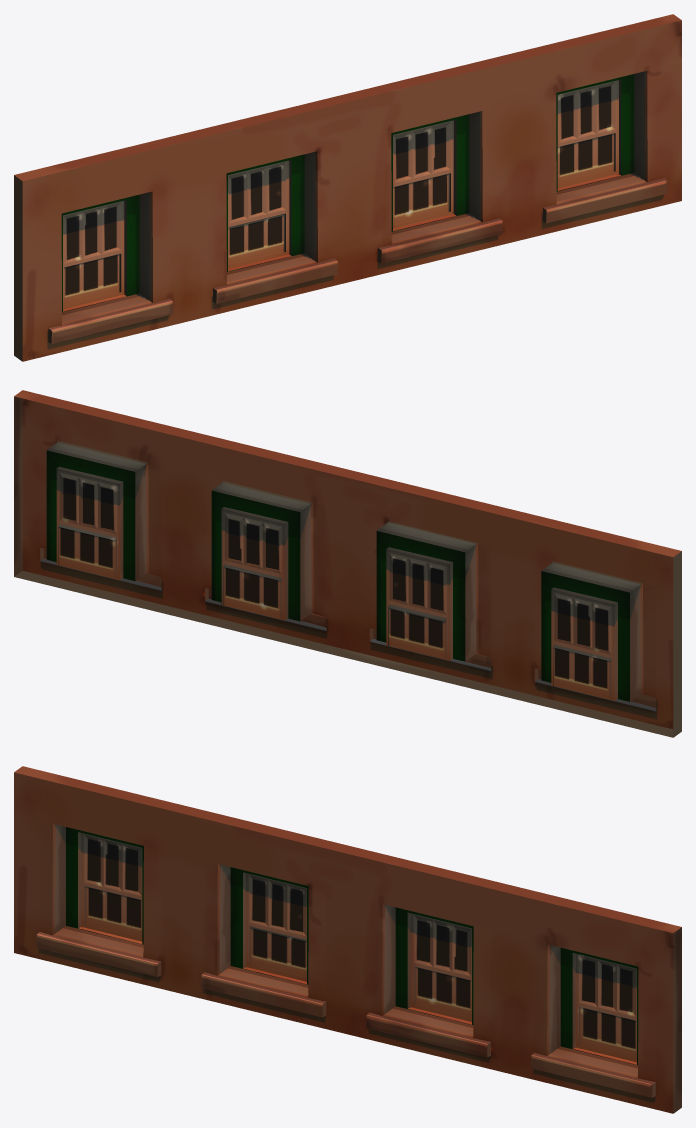
The picture shows the model from 3 angles, top to bottom: view 1: azimuth 30°, elevation 25°; view 2: azimuth 150°, elevation 25°; view 3: azimuth 330°, elevation 25°; orthographic projection.
Parts seen in each view (by area): view 1: windarss; view 2: windarss; view 3: windarss.
Boxes of the visible parts, x1,y1,x2,y2 form: windarss: (14,14,681,361); windarss: (14,390,681,737); windarss: (14,766,681,1113).
Size of the model in its own units: 779 by 204 by 39.62.
1 material, 1 textured.
